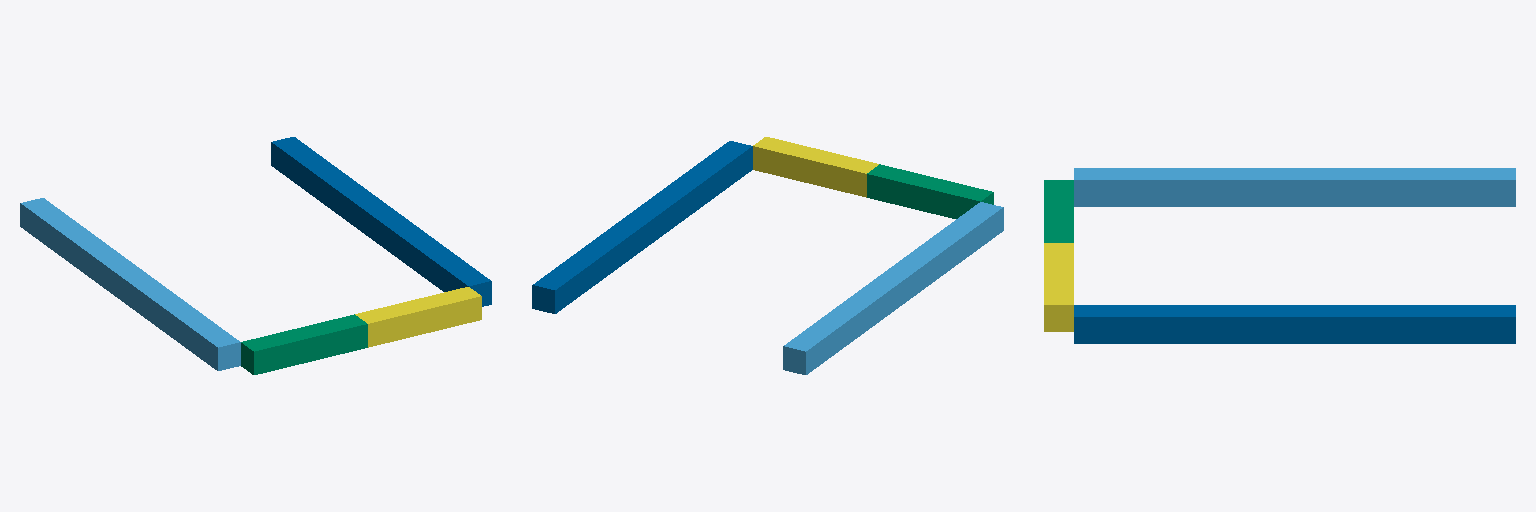
The robot description file, URDF, robot "four_bar_split_fixed_urdf":
<?xml version="1.0" ?>

<robot name="four_bar_split_fixed_urdf">
  <gazebo>
    <self_collide>true</self_collide>
  </gazebo>
  <link name="world"/>

  <link name="link_AB">
    <inertial>
      <origin rpy="0 0 0" xyz="-0.01 -0.15000000000000002 0"/>
      <mass value="0.07200000000000001"/>
      <inertia ixx="0.0005424000000000002"
               ixy="0.0"
               ixz="0.0"
               iyy="4.800000000000001e-06"
               iyz="0.0"
               izz="0.0005424000000000002"/>
    </inertial>
    <collision>
      <origin rpy="0 0 0" xyz="-0.01 -0.15000000000000002 0"/>
      <geometry>
        <box size="0.02 0.30000000000000004 0.02"/>
      </geometry>
    </collision>
    <visual>
      <origin rpy="0 0 0" xyz="-0.01 -0.15000000000000002 0"/>
      <geometry>
        <box size="0.02 0.30000000000000004 0.02"/>
      </geometry>
    </visual>
  </link>
  <gazebo reference="link_AB">
    <material>Gazebo/Wood</material>
  </gazebo>

  <link name="link_BE">
    <inertial>
      <origin rpy="0 0 0" xyz="0.05 -0.01 0"/>
      <mass value="0.024"/>
      <inertia ixx="1.6000000000000001e-06"
               ixy="0.0"
               ixz="0.0"
               iyy="2.0800000000000004e-05"
               iyz="0.0"
               izz="2.0800000000000004e-05"/>
    </inertial>
    <collision>
      <origin rpy="0 0 0" xyz="0.05 -0.01 0"/>
      <geometry>
        <box size="0.1 0.02 0.02"/>
      </geometry>
    </collision>
    <visual>
      <origin rpy="0 0 0" xyz="0.05 -0.01 0"/>
      <geometry>
        <box size="0.1 0.02 0.02"/>
      </geometry>
    </visual>
  </link>
  <gazebo reference="link_BE">
    <material>Gazebo/Wood</material>
  </gazebo>

  <link name="link_EC">
    <inertial>
      <origin rpy="0 0 0" xyz="-0.05 -0.01 0"/>
      <mass value="0.024"/>
      <inertia ixx="1.6000000000000001e-06"
               ixy="0.0"
               ixz="0.0"
               iyy="2.0800000000000004e-05"
               iyz="0.0"
               izz="2.0800000000000004e-05"/>
    </inertial>
    <collision>
      <origin rpy="0 0 0" xyz="-0.05 -0.01 0"/>
      <geometry>
        <box size="0.1 0.02 0.02"/>
      </geometry>
    </collision>
    <visual>
      <origin rpy="0 0 0" xyz="-0.05 -0.01 0"/>
      <geometry>
        <box size="0.1 0.02 0.02"/>
      </geometry>
    </visual>
  </link>
  <gazebo reference="link_EC">
    <material>Gazebo/Wood</material>
  </gazebo>

  <link name="link_CD">
    <inertial>
      <origin rpy="0 0 0" xyz="0.01 -0.15000000000000002 0"/>
      <mass value="0.07200000000000001"/>
      <inertia ixx="0.0005424000000000002"
               ixy="0.0"
               ixz="0.0"
               iyy="4.800000000000001e-06"
               iyz="0.0"
               izz="0.0005424000000000002"/>
    </inertial>
    <collision>
      <origin rpy="0 0 0" xyz="0.01 -0.15000000000000002 0"/>
      <geometry>
        <box size="0.02 0.30000000000000004 0.02"/>
      </geometry>
    </collision>
    <visual>
      <origin rpy="0 0 0" xyz="0.01 -0.15000000000000002 0"/>
      <geometry>
        <box size="0.02 0.30000000000000004 0.02"/>
      </geometry>
    </visual>
  </link>
  <gazebo reference="link_CD">
    <material>Gazebo/Wood</material>
  </gazebo>

  <joint name="joint_A" type="continuous">
    <origin rpy="0 0 0" xyz="0 0 0.04"/>
    <parent link="world"/>
    <child link="link_AB"/>
    <axis xyz="0 0 1"/>
  </joint>

  <joint name="joint_B" type="continuous">
    <origin rpy="0 0 0" xyz="0 -0.30000000000000004 0"/>
    <parent link="link_AB"/>
    <child link="link_BE"/>
    <axis xyz="0 0 1"/>
  </joint>

  <joint name="joint_D" type="continuous">
    <origin rpy="0 0 0" xyz="0.2 0 0.04"/>
    <parent link="world"/>
    <child link="link_CD"/>
    <axis xyz="0 0 1"/>
  </joint>

  <joint name="joint_C" type="continuous">
    <origin rpy="0 0 0" xyz="0 -0.30000000000000004 0"/>
    <parent link="link_CD"/>
    <child link="link_EC"/>
    <axis xyz="0 0 1"/>
  </joint>

  <!-- SDFormat joints -->
  <gazebo>
    <joint name="joint_E" type="fixed">
      <pose>-0.1 -0.01 0 0 0 0</pose>
      <parent>link_BE</parent>
      <child>link_EC</child>

    </joint>

  </gazebo>
</robot>

--- What the picture shows (computed from the rendered views, not written in the file) ---
The picture shows the robot from 3 angles, left to right: view 1: azimuth 30°, elevation 25°; view 2: azimuth 150°, elevation 25°; view 3: azimuth 270°, elevation 25°; orthographic projection.
Model four_bar_split_fixed_urdf with 5 links and 4 joints (4 continuous), rooted at world, posed all joints at 0.
Links seen in each view (by area): view 1: link_AB, link_CD, link_BE, link_EC; view 2: link_AB, link_CD, link_EC, link_BE; view 3: link_AB, link_CD, link_EC, link_BE.
Link boxes in pixels (box(x1,y1,x2,y2)): link_AB: box(20, 198, 240, 370); link_CD: box(271, 137, 491, 306); link_BE: box(241, 314, 367, 374); link_EC: box(355, 287, 481, 347); link_AB: box(783, 202, 1003, 374); link_CD: box(532, 141, 752, 313); link_EC: box(753, 137, 878, 197); link_BE: box(867, 164, 993, 218); link_AB: box(1074, 168, 1515, 206); link_CD: box(1074, 305, 1515, 343); link_EC: box(1044, 243, 1073, 331); link_BE: box(1044, 180, 1073, 242).
Size in the robot's own frame: 0.24 by 0.32 by 0.02 metres.
Geometry: primitives only (box / cylinder / sphere), no mesh files.